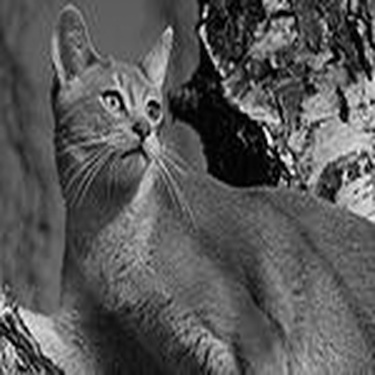cat: (45, 5, 366, 371)
